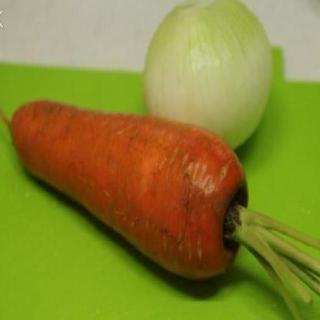carrot: (3, 101, 251, 283)
